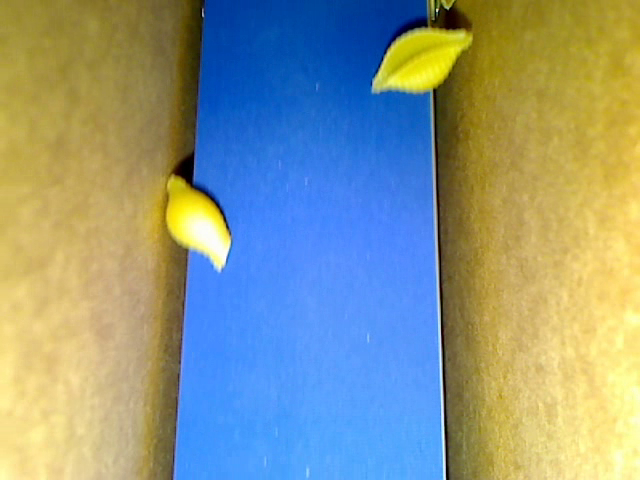shell: (369, 21, 472, 98), (162, 172, 234, 272)
